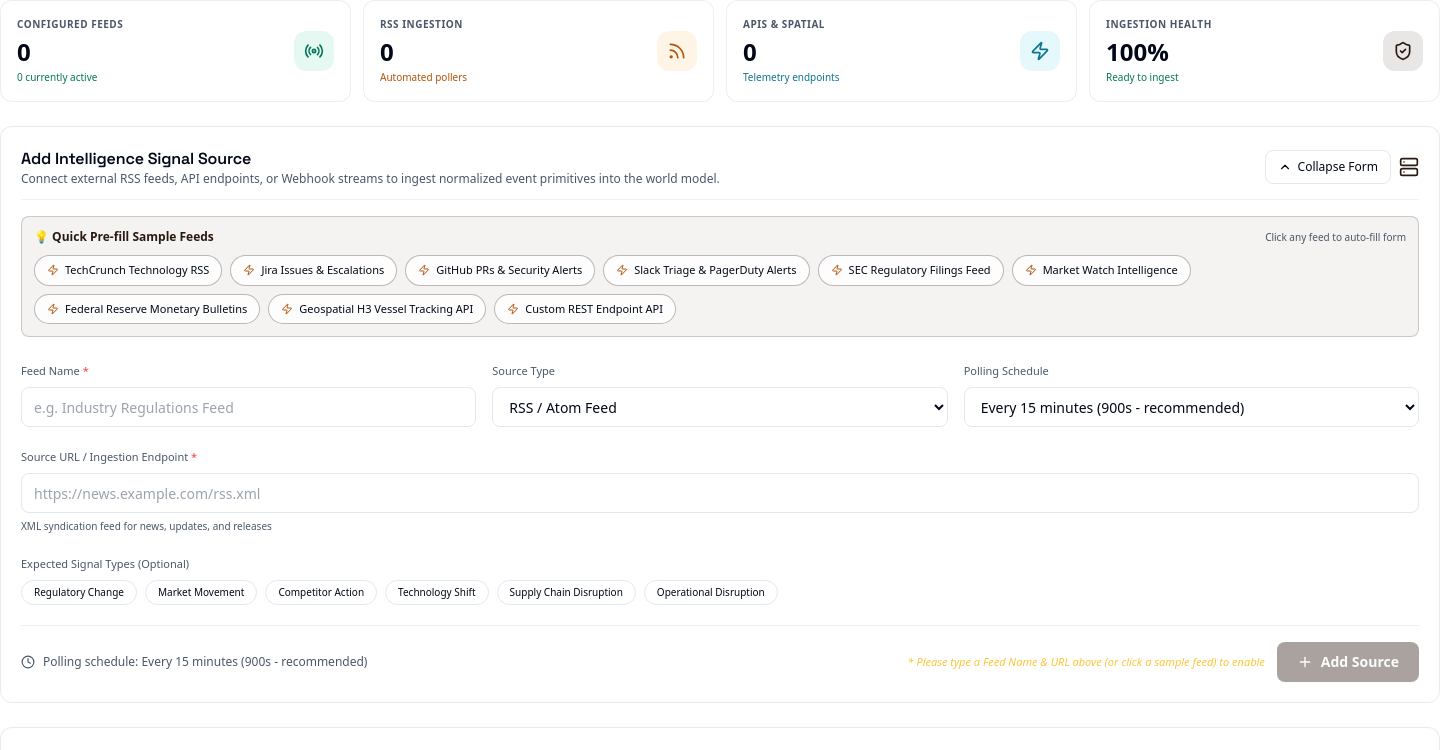
Test: SourcesView › renders quick pre-fill sample feed buttons and fills form when clicked
Click the button "TechCrunch Technology RSS". click: (128, 270)
box: x1=34 y1=255 x2=222 y2=286
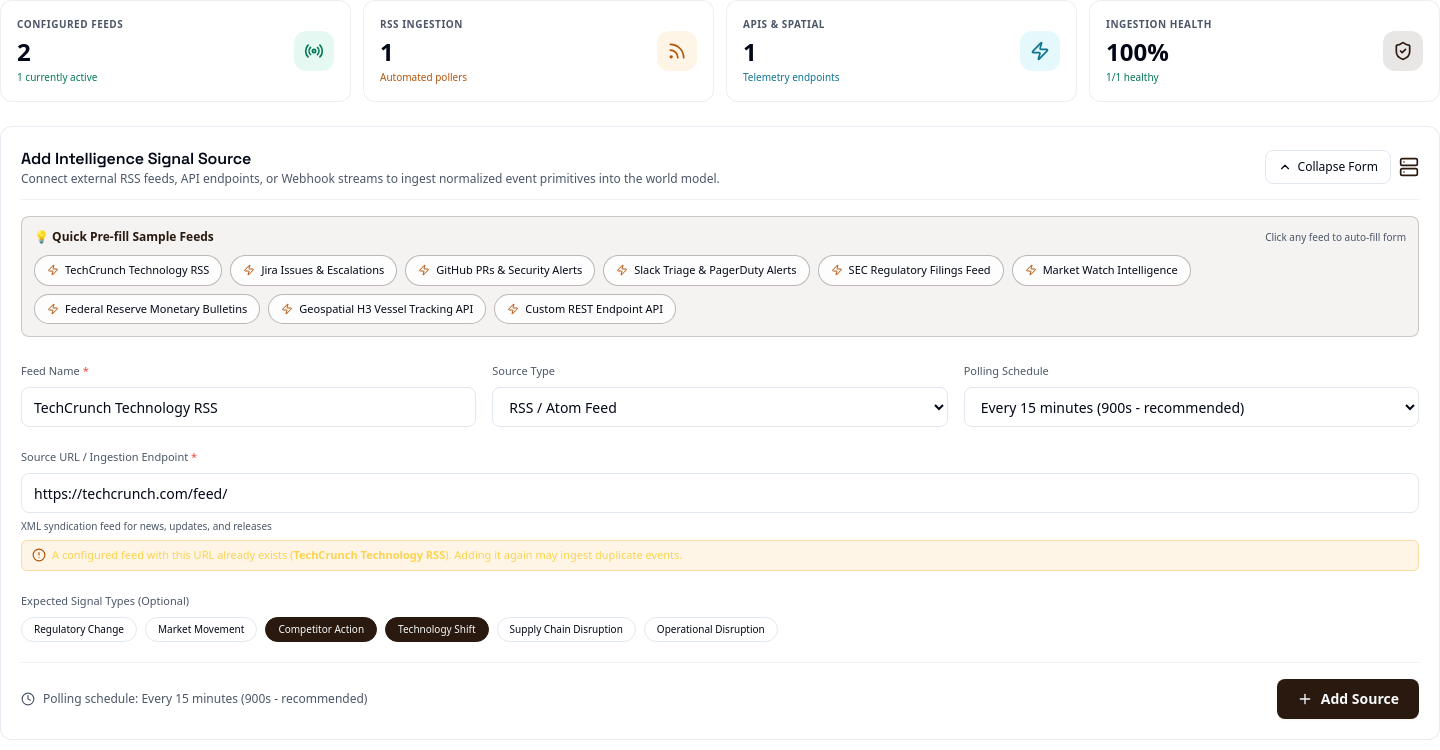
Check: the field with placeholder "e.g. Industry Regulations Feed" below "Feed Name" holds "TechCrunch Technology RSS", box x1=21 y1=387 x2=476 y2=427
Check: the field showing "https://techcrunch.com/feed/" below "Source URL / Ingestion Endpoint" holds "https://techcrunch.com/feed/", box x1=21 y1=473 x2=1419 y2=513
